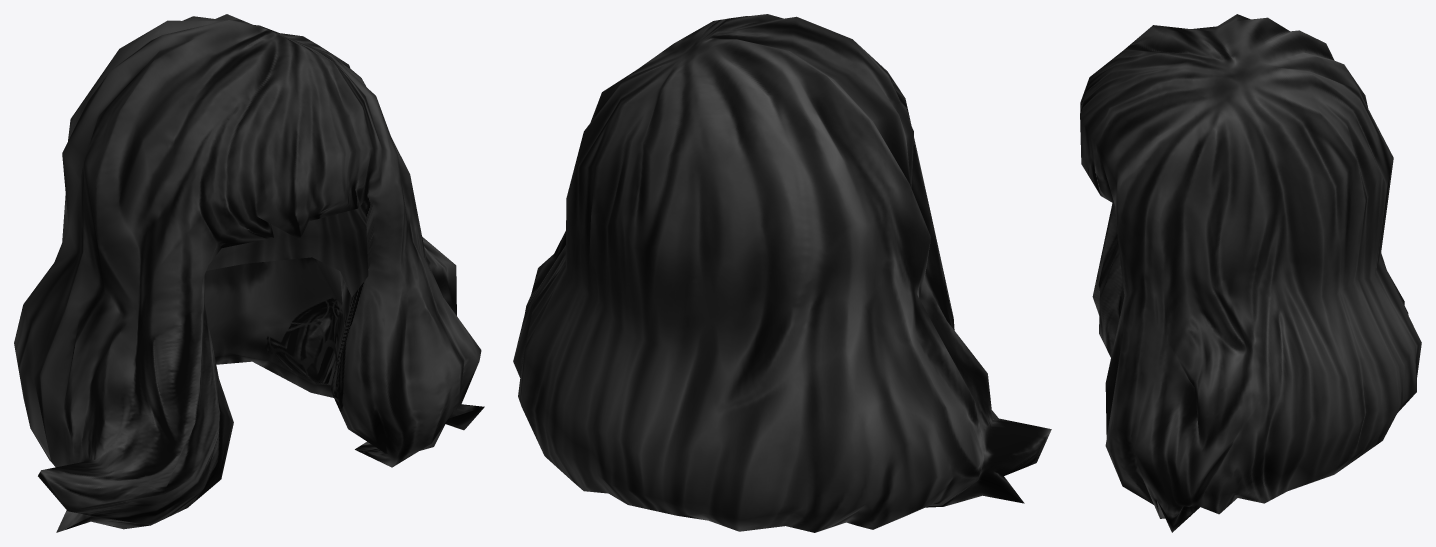
Rendered from AF_M_hair_G_10.fbx.
3 renders of one model, left to right at view 1: azimuth 30°, elevation 25°; view 2: azimuth 150°, elevation 25°; view 3: azimuth 270°, elevation 25°, orthographic. The views are drawn at different scales.
Parts seen in each view (by area): view 1: AF_M_hair_G_10; view 2: AF_M_hair_G_10; view 3: AF_M_hair_G_10.
Part boxes in pixels (x1,y1,x2,y2): AF_M_hair_G_10: (14,14,484,532); AF_M_hair_G_10: (513,14,1051,532); AF_M_hair_G_10: (1080,14,1421,532).
Size of the model in its own units: 1186 by 1094 by 802.
